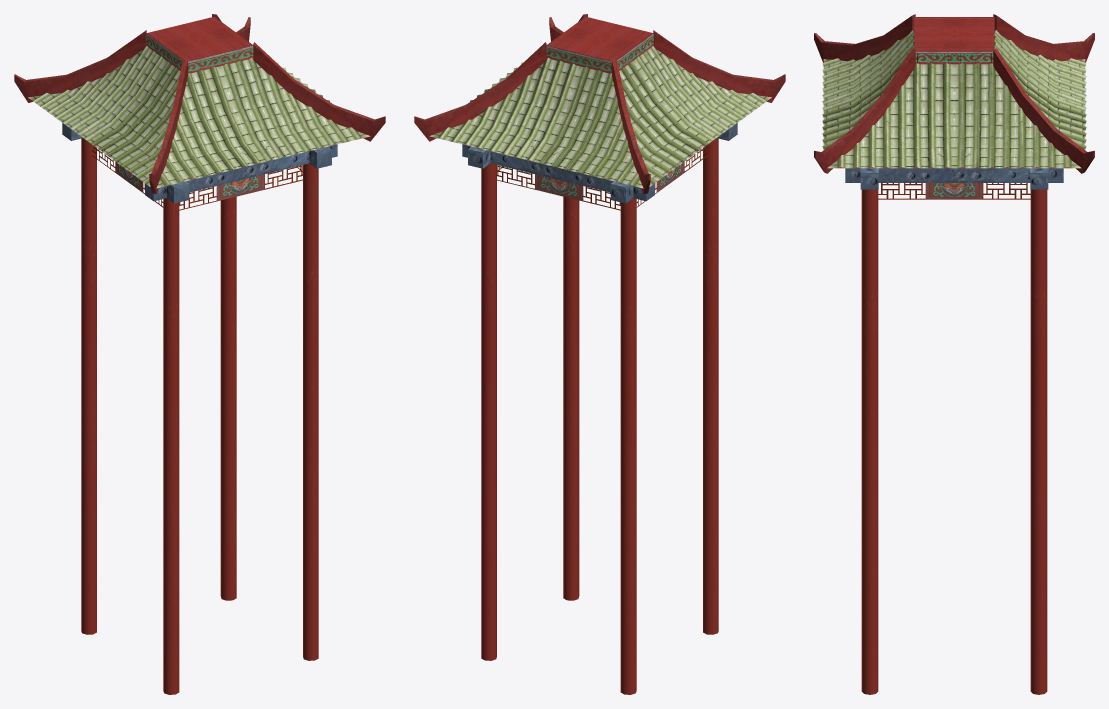
File: tempio.obj
3 renders of one model, left to right at view 1: azimuth 30°, elevation 25°; view 2: azimuth 150°, elevation 25°; view 3: azimuth 270°, elevation 25°, orthographic. The views are drawn at different scales.
Parts seen in each view (by area): view 1: tempio_tempio_angoliTetto.003; view 2: tempio_tempio_angoliTetto.003; view 3: tempio_tempio_angoliTetto.003.
Part boxes in pixels (x1,y1,x2,y2): tempio_tempio_angoliTetto.003: [14, 14, 385, 694]; tempio_tempio_angoliTetto.003: [414, 14, 785, 694]; tempio_tempio_angoliTetto.003: [814, 14, 1094, 694].
Size of the model in its own units: 9.1 by 22.33 by 9.1.
